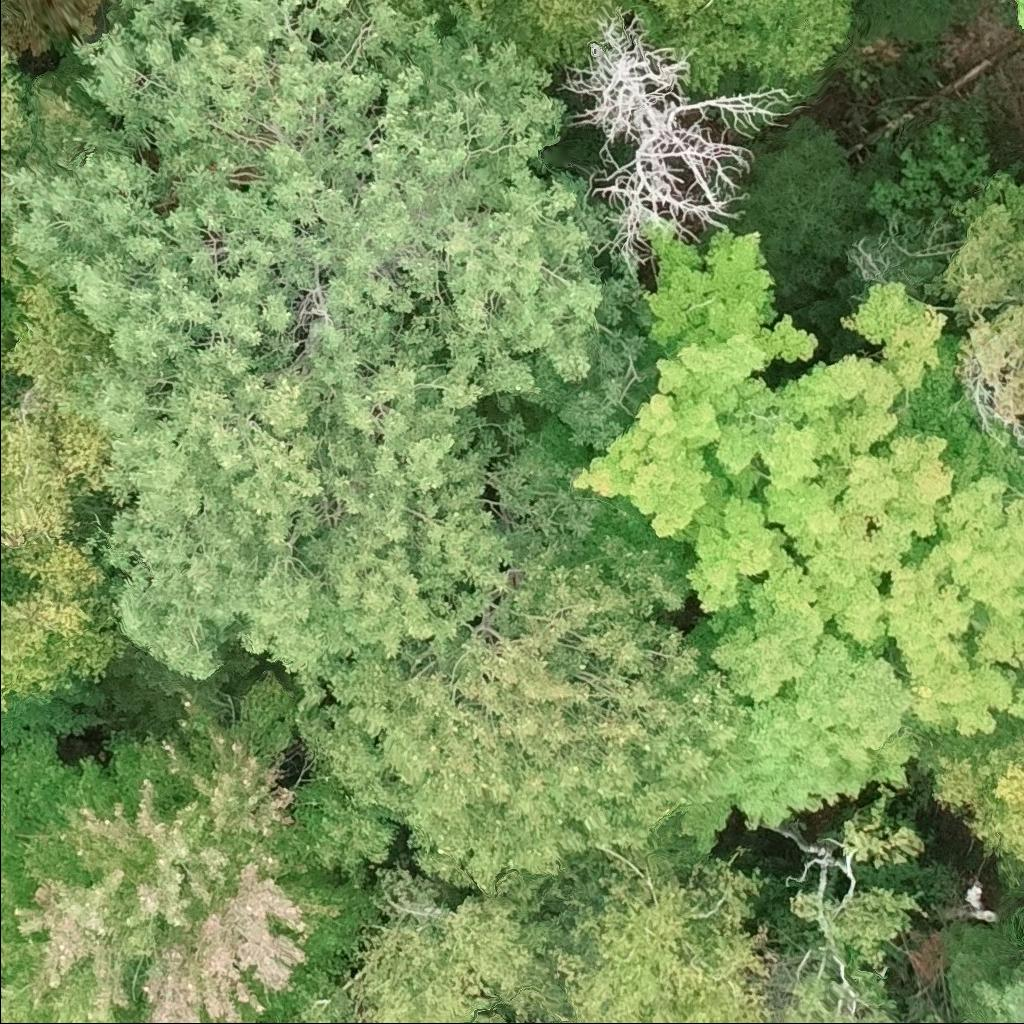crown: (0, 0, 648, 717), (527, 220, 1023, 833), (289, 498, 750, 895), (0, 676, 380, 1023), (552, 3, 812, 273), (535, 844, 784, 1023), (301, 861, 569, 1023), (0, 268, 118, 599), (735, 111, 871, 297), (0, 565, 144, 722), (933, 178, 1023, 422), (916, 719, 1023, 893), (677, 0, 861, 92), (470, 0, 616, 63), (0, 35, 40, 179), (615, 0, 724, 43), (976, 970, 1023, 1023), (0, 222, 19, 278), (1009, 0, 1023, 33)
